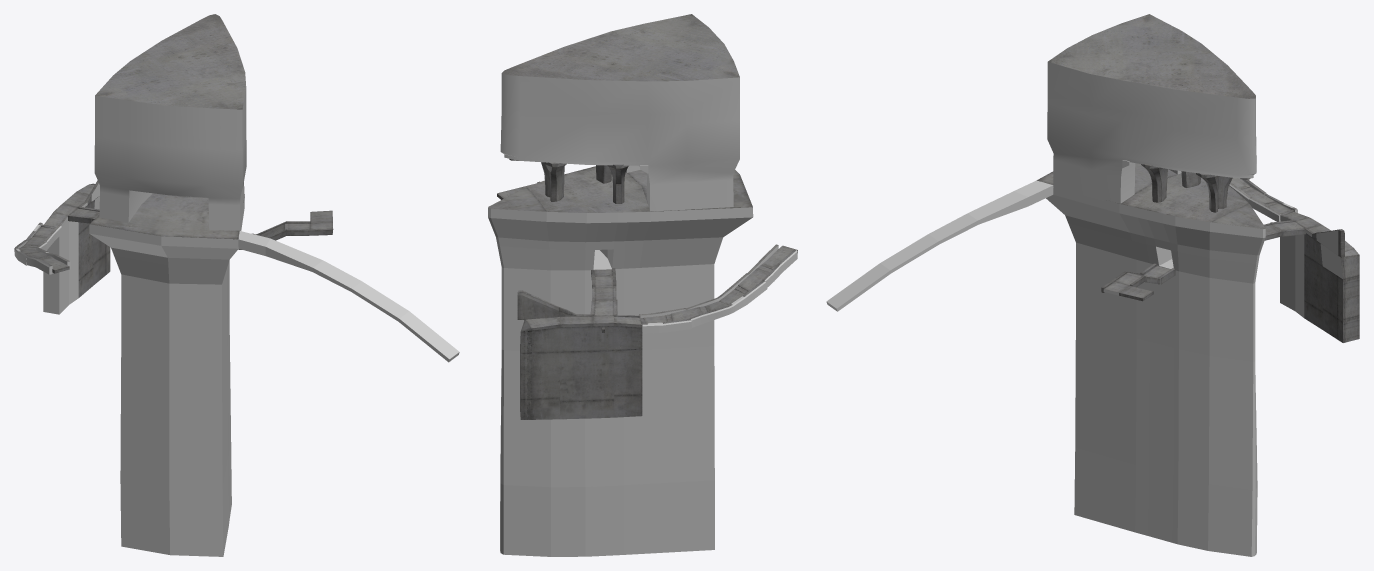
3 views of the same model, side by side, from view 1: azimuth 30°, elevation 25°; view 2: azimuth 150°, elevation 25°; view 3: azimuth 270°, elevation 25° (orthographic). The views are drawn at different scales.
Parts seen in each view (by area): view 1: Cube.039; view 2: Cube.039; view 3: Cube.039.
Boxes of the visible parts, x1=… form: Cube.039: x1=14, y1=14, x2=459, y2=556; Cube.039: x1=488, y1=14, x2=797, y2=556; Cube.039: x1=826, y1=14, x2=1359, y2=556.
Bounding box in the file's own units: 4858 × 7447 × 7874.
